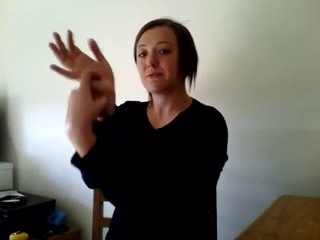R: (40, 27, 121, 154)
